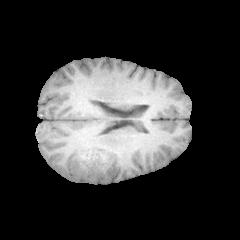glioma: (71, 141, 118, 182)
